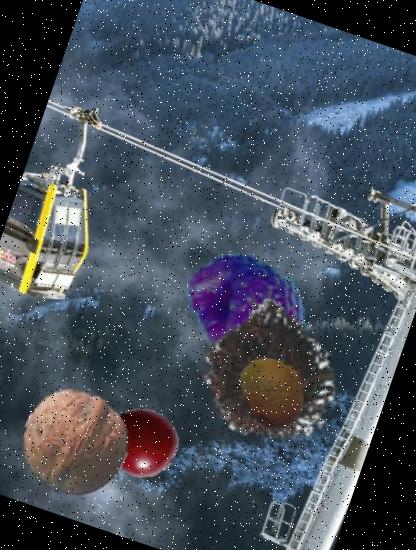Cherry: (98, 398, 188, 488)
Mandarine: (226, 345, 322, 440)
Rambutan: (174, 275, 364, 464)
Raspberry: (163, 228, 323, 388)
Walnut: (8, 374, 143, 509)
